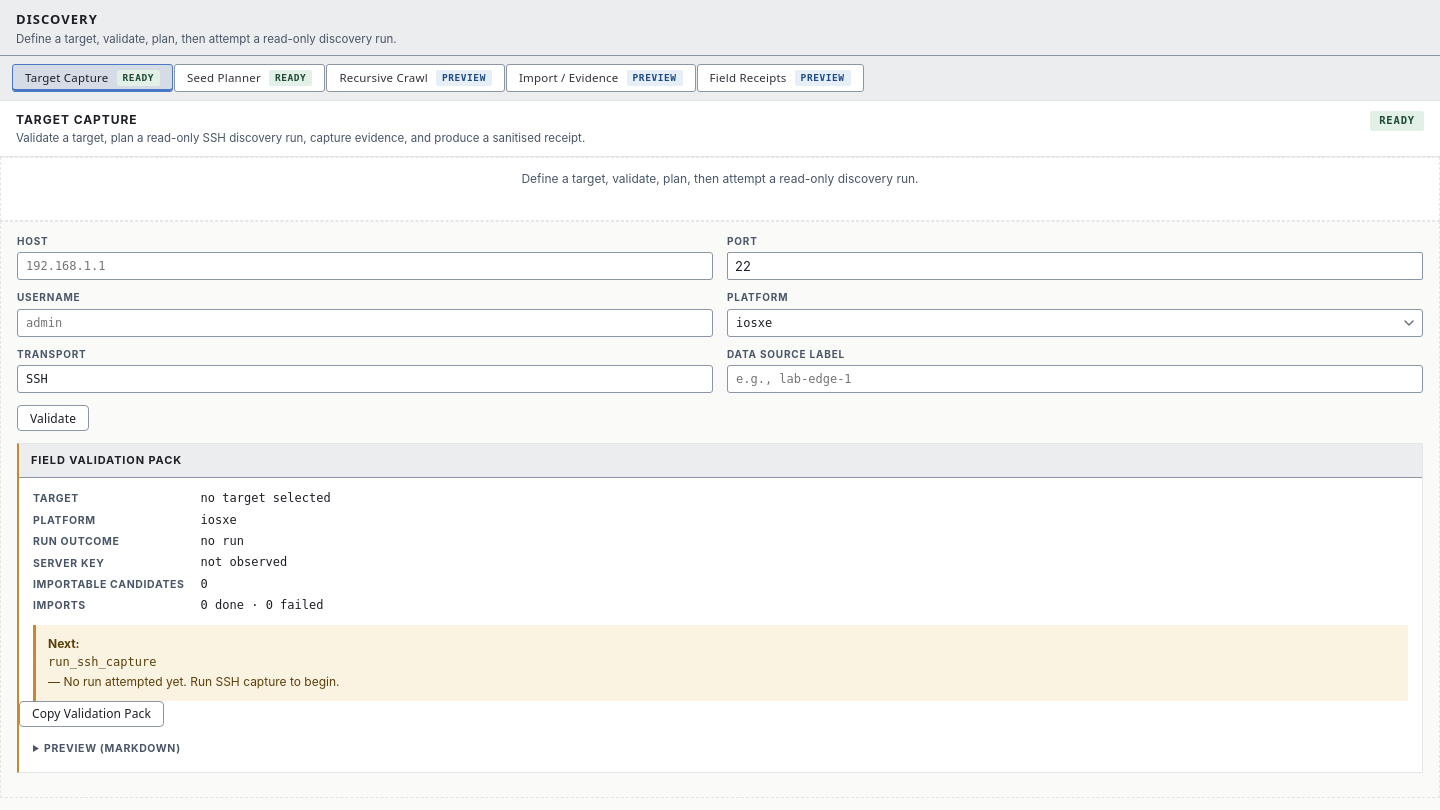
DiscoveryMode — workbench (V1BH) › switching to Seed Planner shows the live planner panel and hides the form
Click the tab with test id "mwb-tool-seed_planner".
click(250, 78)  # box [174, 64, 325, 92]
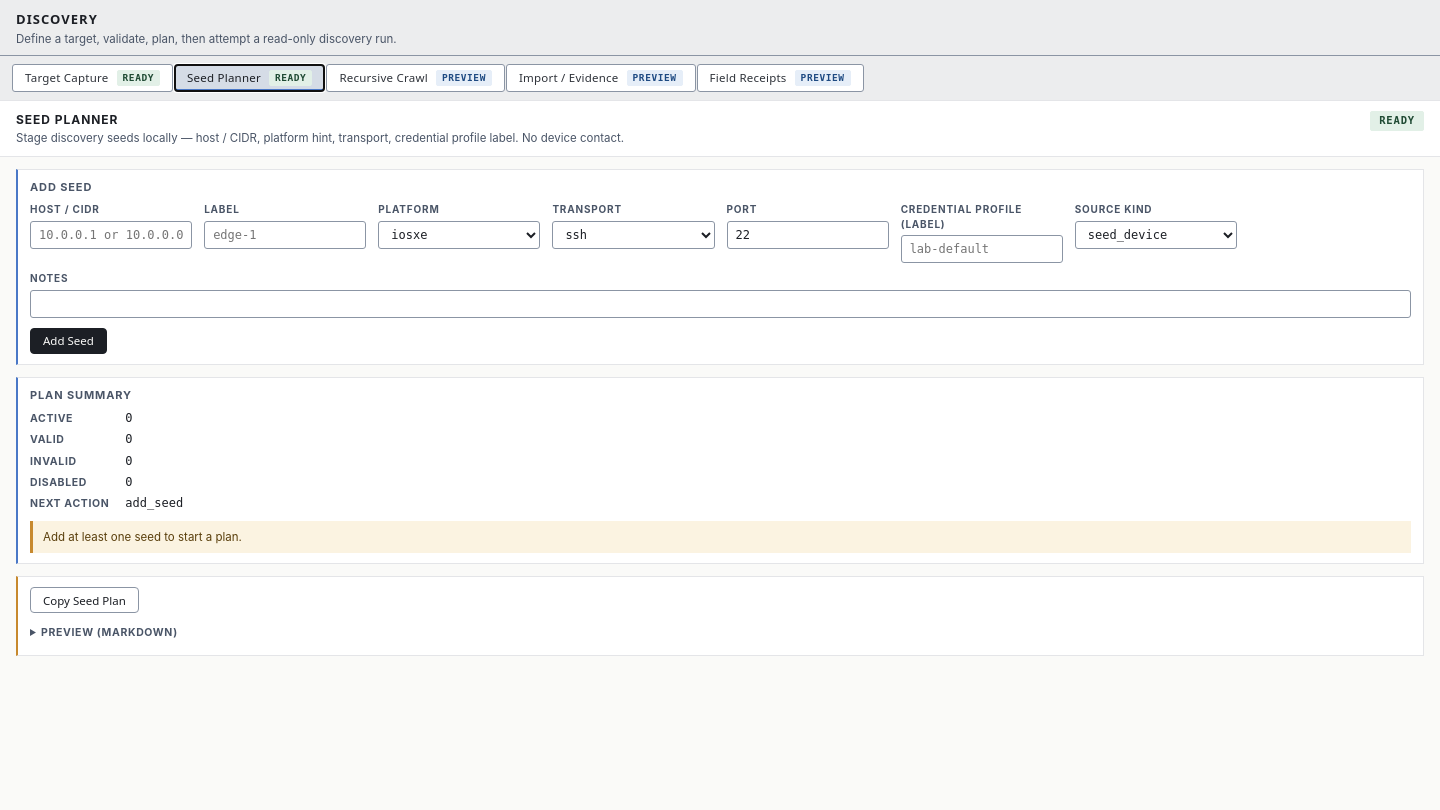
Now the element with test id "seed-planner" is shown
Now the element with test id "discovery-validation-pack" is gone
Now the element with test id "dx-form" is gone
